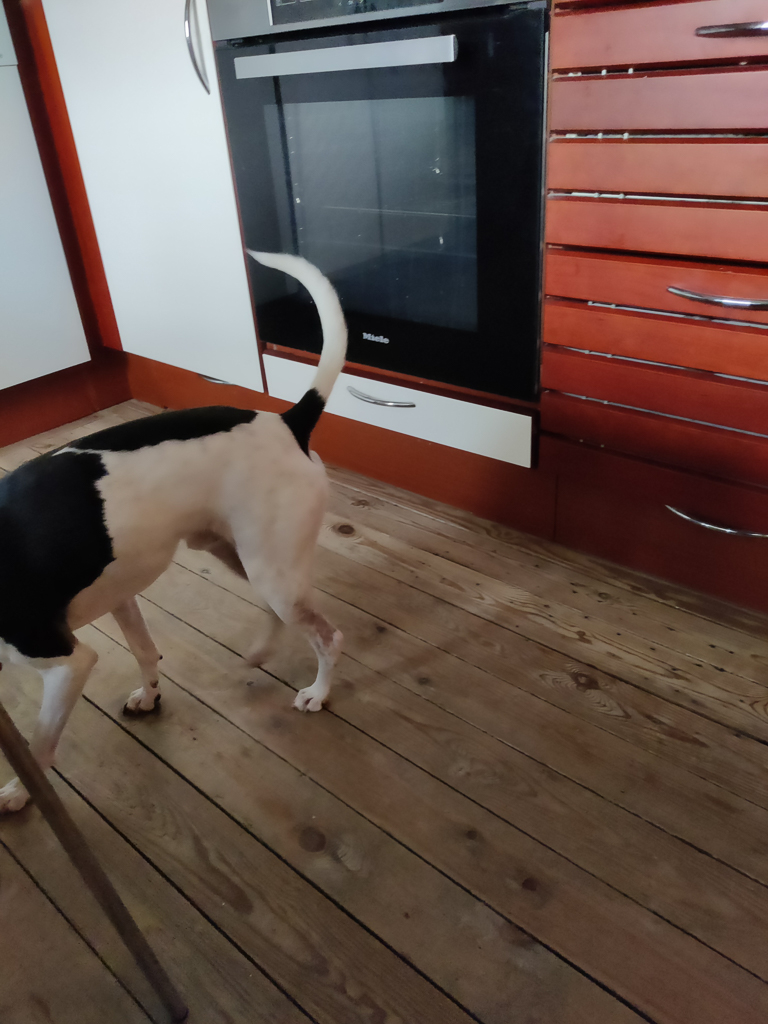Dog: (0, 244, 366, 831)
